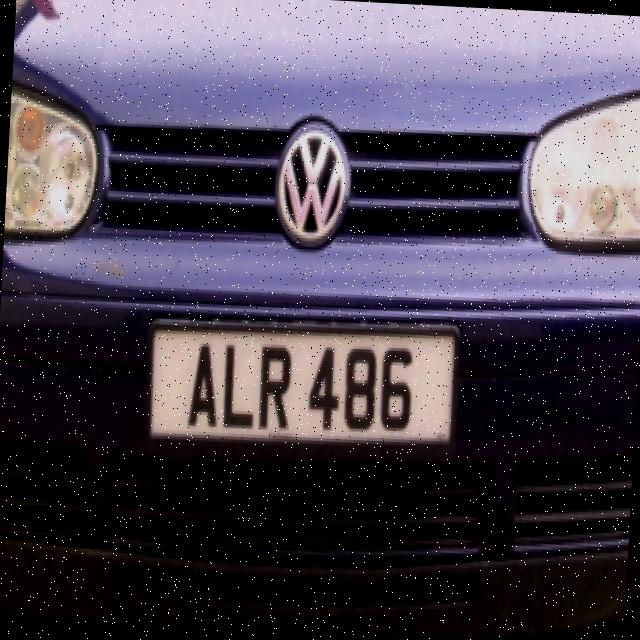Autre: (149, 326, 460, 443)
